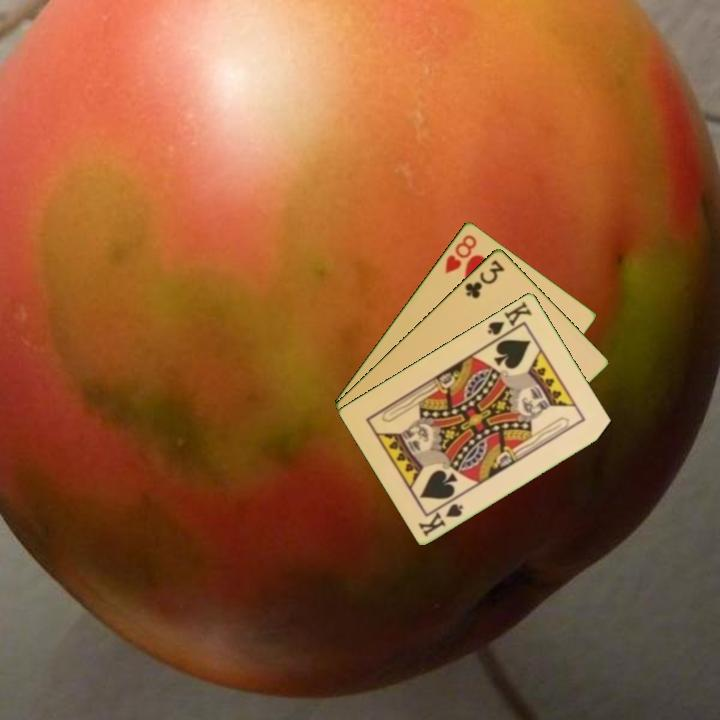3c: (461, 256, 508, 301)
8h: (441, 231, 480, 276)
Ks: (484, 297, 535, 338), (415, 499, 466, 539)
